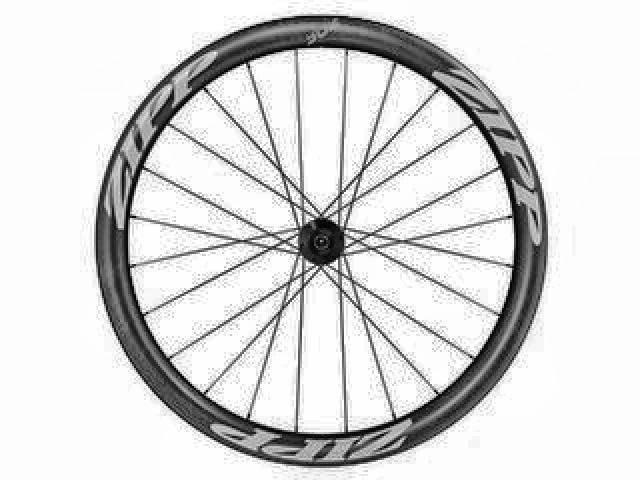wheel: (94, 10, 550, 470)
